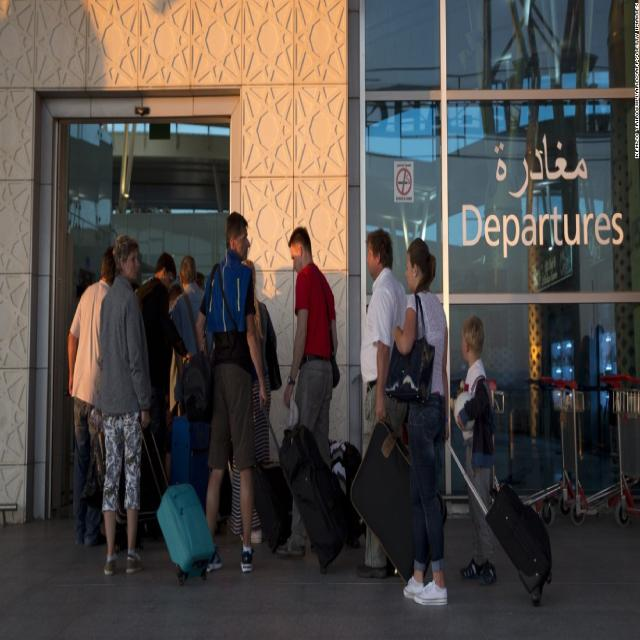body: (194, 209, 269, 575), (383, 235, 452, 610), (275, 223, 342, 562), (93, 234, 154, 576), (354, 227, 408, 583), (518, 318, 631, 469), (67, 245, 117, 552), (448, 312, 498, 590), (230, 256, 277, 544), (134, 251, 176, 544), (171, 254, 206, 378), (110, 203, 174, 219), (169, 282, 182, 314), (194, 270, 211, 290)
